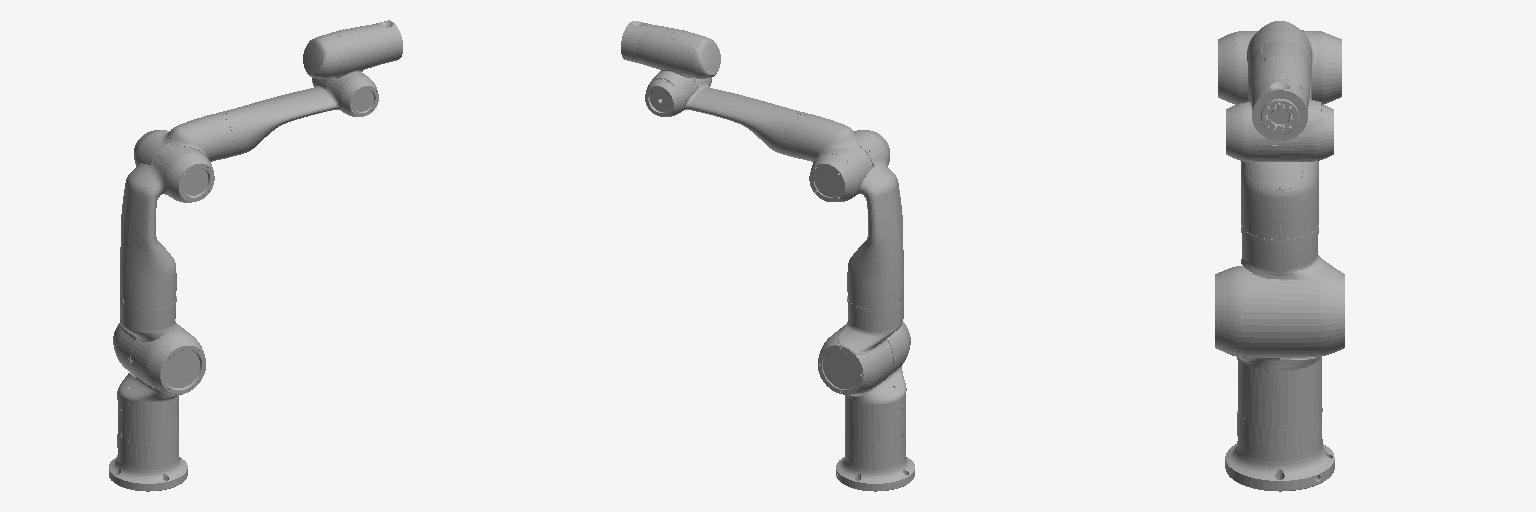
The robot description file, URDF, robot "DianaV1":
<?xml version="1.0" encoding="utf-8"?>
<!-- =================================================================================== -->
<!-- |    This document was autogenerated by xacro from DianaV1_joint_limited_robot.urdf.xacro | -->
<!-- |    EDITING THIS FILE BY HAND IS NOT RECOMMENDED                                 | -->
<!-- =================================================================================== -->
<robot name="DianaV1">
  <gazebo>
    <plugin filename="libgazebo_ros_control.so" name="ros_control">
      <!--robotNamespace>/</robotNamespace-->
      <!--robotSimType>gazebo_ros_control/DefaultRobotHWSim</robotSimType-->
    </plugin>
    <!--
    <plugin name="gazebo_ros_power_monitor_controller" filename="libgazebo_ros_power_monitor.so">
      <alwaysOn>true</alwaysOn>
      <updateRate>1.0</updateRate>
      <timeout>5</timeout>
      <powerStateTopic>power_state</powerStateTopic>
      <powerStateRate>10.0</powerStateRate>
      <fullChargeCapacity>87.78</fullChargeCapacity>     
      <dischargeRate>-474</dischargeRate>
      <chargeRate>525</chargeRate>
      <dischargeVoltage>15.52</dischargeVoltage>
      <chargeVoltage>16.41</chargeVoltage>
    </plugin>
-->
  </gazebo>
  <link name="base_link">
    <visual>
      <origin rpy="0 0 0" yz="0 0 0"/>
      <geometry>
        <mesh filename="package://dianaV1_description/meshes/base_link.STL"/>
      </geometry>
      <material name="LightGrey">
        <color rgba="0.7 0.7 0.7 1"/>
      </material>
    </visual>
    <collision>
      <origin rpy="0 0 0" xyz="0 0 0"/>
      <geometry>
        <mesh filename="package://dianaV1_description/meshes/base_link.STL"/>
      </geometry>
    </collision>
  </link>
  <joint name="joint1" type="revolute">
    <origin rpy="3.14159265359 0 0" xyz="0 0 0.3"/>
    <parent link="base_link"/>
    <child link="link1"/>
    <axis xyz="0 0 1"/>
    <limit effort="50.0" lower="-1.57079632679" upper="1.57079632679" velocity="3.14"/>
    <dynamics damping="0.0" friction="0.0"/>
  </joint>
  <link name="link1">
    <inertial>
      <origin rpy="0 0 0" xyz="0.0171 0.0 0.0762"/>
      <mass value="7.057"/>
      <inertia ixx="0.0" ixy="0.0" ixz="0.0" iyy="0.0" iyz="0.0" izz="0.023"/>
    </inertial>
    <visual>
      <origin rpy="0 0 0" xyz="0 0 0"/>
      <geometry>
        <mesh filename="package://dianaV1_description/meshes/link1.STL"/>
      </geometry>
      <material name="LightGrey">
        <color rgba="0.7 0.7 0.7 1"/>
      </material>
    </visual>
    <collision>
      <origin rpy="0 0 0" xyz="0 0 0"/>
      <geometry>
        <mesh filename="package://dianaV1_description/meshes/link1.STL"/>
      </geometry>
    </collision>
  </link>
  <joint name="joint2" type="revolute">
    <origin rpy="-1.57079632679 0 0" xyz="0.02982 0 0"/>
    <parent link="link1"/>
    <child link="link2"/>
    <axis xyz="0 0 1"/>
    <limit effort="50.0" lower="0.0" upper="1.2217304764" velocity="3.14"/>
    <dynamics damping="0.0" friction="0.0"/>
  </joint>
  <link name="link2">
    <inertial>
      <origin rpy="0 0 0" xyz="-0.0147 0.0491 -0.036"/>
      <mass value="3.367"/>
      <inertia ixx="0.0335" ixy="0.0" ixz="0.0" iyy="0.0161" iyz="0.0" izz="0.0286"/>
    </inertial>
    <visual>
      <origin rpy="0 0 0" xyz="0 0 0"/>
      <geometry>
        <mesh filename="package://dianaV1_description/meshes/link2.STL"/>
      </geometry>
      <material name="LightGrey">
        <color rgba="0.7 0.7 0.7 1"/>
      </material>
    </visual>
    <collision>
      <origin rpy="0 0 0" xyz="0 0 0"/>
      <geometry>
        <mesh filename="package://dianaV1_description/meshes/link2.STL"/>
      </geometry>
    </collision>
  </link>
  <joint name="joint3" type="revolute">
    <origin rpy="1.57079632679 0 0" xyz="-0.02982 0.45856 0"/>
    <parent link="link2"/>
    <child link="link3"/>
    <axis xyz="0 0 1"/>
    <limit effort="50.0" lower="0.0" upper="0.0" velocity="3.14"/>
    <dynamics damping="0.0" friction="0.0"/>
  </joint>
  <link name="link3">
    <inertial>
      <origin rpy="0 0 0" xyz="0.0283 0.0035 0.134"/>
      <mass value="4.949"/>
      <inertia ixx="0.1981" ixy="0.0" ixz="0.0" iyy="0.2068" iyz="0.0" izz="0.0207"/>
    </inertial>
    <visual>
      <origin rpy="0 0 0" xyz="0 0 0"/>
      <geometry>
        <mesh filename="package://dianaV1_description/meshes/link3.STL"/>
      </geometry>
      <material name="LightGrey">
        <color rgba="0.7 0.7 0.7 1"/>
      </material>
    </visual>
    <collision>
      <origin rpy="0 0 0" xyz="0 0 0"/>
      <geometry>
        <mesh filename="package://dianaV1_description/meshes/link3.STL"/>
      </geometry>
    </collision>
  </link>
  <joint name="joint4" type="revolute">
    <origin rpy="-1.57079632679 -1.57079632679 0" xyz="0.06768 0 0"/>
    <parent link="link3"/>
    <child link="link4"/>
    <axis xyz="0 0 1"/>
    <limit effort="50.0" lower="0.0" upper="0.872664625997" velocity="3.14"/>
    <dynamics damping="0.0" friction="0.0"/>
  </joint>
  <link name="link4">
    <inertial>
      <origin rpy="0 0 0" xyz="-0.0284 0.0426 -0.0222"/>
      <mass value="2.347"/>
      <inertia ixx="0.0154" ixy="0.0" ixz="0.0" iyy="0.0" iyz="0.0" izz="0.0167"/>
    </inertial>
    <visual>
      <origin rpy="0 0 0" xyz="0 0 0"/>
      <geometry>
        <mesh filename="package://dianaV1_description/meshes/link4.STL"/>
      </geometry>
      <material name="LightGrey">
        <color rgba="0.7 0.7 0.7 1"/>
      </material>
    </visual>
    <collision>
      <origin rpy="0 0 0" xyz="0 0 0"/>
      <geometry>
        <mesh filename="package://dianaV1_description/meshes/link4.STL"/>
      </geometry>
    </collision>
  </link>
  <joint name="joint5" type="revolute">
    <origin rpy="1.57079632679 0 0" xyz="-0.04744 0.44903 0"/>
    <parent link="link4"/>
    <child link="link5"/>
    <axis xyz="0 0 1"/>
    <limit effort="50.0" lower="-1.57079632679" upper="1.57079632679" velocity="3.14"/>
    <dynamics damping="0.0" friction="0.0"/>
  </joint>
  <link name="link5">
    <inertial>
      <origin rpy="0 0 0" xyz="-0.0253 0.0007 0.1455"/>
      <mass value="3.2554"/>
      <inertia ixx="0.1459" ixy="0.0" ixz="0.0" iyy="0.1481" iyz="0.0" izz="0.0"/>
    </inertial>
    <visual>
      <origin rpy="0 0 0" xyz="0 0 0"/>
      <geometry>
        <mesh filename="package://dianaV1_description/meshes/link5.STL"/>
      </geometry>
      <material name="LightGrey">
        <color rgba="0.7 0.7 0.7 1"/>
      </material>
    </visual>
    <collision>
      <origin rpy="0 0 0" xyz="0 0 0"/>
      <geometry>
        <mesh filename="package://dianaV1_description/meshes/link5.STL"/>
      </geometry>
    </collision>
  </link>
  <joint name="joint6" type="revolute">
    <origin rpy="-1.57079632679 0 0" xyz="-0.04639 0 0"/>
    <parent link="link5"/>
    <child link="link6"/>
    <axis xyz="0 0 1"/>
    <limit effort="50.0" lower="0.0" upper="0.349065850399" velocity="3.14"/>
    <dynamics damping="0.0" friction="0.0"/>
  </joint>
  <link name="link6">
    <inertial>
      <origin rpy="0 0 0" xyz="-0.0613 0.0202 -0.0143"/>
      <mass value="2.627"/>
      <inertia ixx="0.0" ixy="0.0" ixz="0.0" iyy="0.0189" iyz="0.0" izz="0.0207"/>
    </inertial>
    <visual>
      <origin rpy="0 0 0" xyz="0 0 0"/>
      <geometry>
        <mesh filename="package://dianaV1_description/meshes/link6.STL"/>
      </geometry>
      <material name="LightGrey">
        <color rgba="0.7 0.7 0.7 1"/>
      </material>
    </visual>
    <collision>
      <origin rpy="0 0 0" xyz="0 0 0"/>
      <geometry>
        <mesh filename="package://dianaV1_description/meshes/link6.STL"/>
      </geometry>
    </collision>
  </link>
  <joint name="joint7" type="revolute">
    <origin rpy="1.57079632679 0 0" xyz="-0.08791 0.1314 0"/>
    <parent link="link6"/>
    <child link="link7"/>
    <axis xyz="0 0 1"/>
    <limit effort="50.0" lower="0.0" upper="0.0" velocity="3.14"/>
    <dynamics damping="0.0" friction="0.0"/>
  </joint>
  <link name="link7">
    <inertial>
      <origin rpy="0 0 0" xyz="0.0 0.0 0.0452"/>
      <mass value="0.77"/>
      <inertia ixx="0.0" ixy="0.0" ixz="0.0" iyy="0.0" iyz="0.0" izz="0.0"/>
    </inertial>
    <visual>
      <origin rpy="0 0 0" xyz="0 0 0"/>
      <geometry>
        <mesh filename="package://dianaV1_description/meshes/link7.STL"/>
      </geometry>
      <material name="LightGrey">
        <color rgba="0.7 0.7 0.7 1"/>
      </material>
    </visual>
    <collision>
      <origin rpy="0 0 0" xyz="0 0 0"/>
      <geometry>
        <mesh filename="package://dianaV1_description/meshes/link7.STL"/>
      </geometry>
    </collision>
  </link>
  <transmission name="joint1_trans">
    <type>transmission_interface/SimpleTransmission</type>
    <joint name="joint1">
      <hardwareInterface>hardware_interface/PositionJointInterface</hardwareInterface>
    </joint>
    <actuator name="joint1_motor">
      <mechanicalReduction>1</mechanicalReduction>
    </actuator>
  </transmission>
  <transmission name="joint2_trans">
    <type>transmission_interface/SimpleTransmission</type>
    <joint name="joint2">
      <hardwareInterface>hardware_interface/PositionJointInterface</hardwareInterface>
    </joint>
    <actuator name="joint2_motor">
      <mechanicalReduction>1</mechanicalReduction>
    </actuator>
  </transmission>
  <transmission name="joint3_trans">
    <type>transmission_interface/SimpleTransmission</type>
    <joint name="joint3">
      <hardwareInterface>hardware_interface/PositionJointInterface</hardwareInterface>
    </joint>
    <actuator name="joint3_motor">
      <mechanicalReduction>1</mechanicalReduction>
    </actuator>
  </transmission>
  <transmission name="joint4_trans">
    <type>transmission_interface/SimpleTransmission</type>
    <joint name="joint4">
      <hardwareInterface>hardware_interface/PositionJointInterface</hardwareInterface>
    </joint>
    <actuator name="joint4_motor">
      <mechanicalReduction>1</mechanicalReduction>
    </actuator>
  </transmission>
  <transmission name="joint5_trans">
    <type>transmission_interface/SimpleTransmission</type>
    <joint name="joint5">
      <hardwareInterface>hardware_interface/PositionJointInterface</hardwareInterface>
    </joint>
    <actuator name="joint5_motor">
      <mechanicalReduction>1</mechanicalReduction>
    </actuator>
  </transmission>
  <transmission name="joint6_trans">
    <type>transmission_interface/SimpleTransmission</type>
    <joint name="joint6">
      <hardwareInterface>hardware_interface/PositionJointInterface</hardwareInterface>
    </joint>
    <actuator name="joint6_motor">
      <mechanicalReduction>1</mechanicalReduction>
    </actuator>
  </transmission>
  <transmission name="joint7_trans">
    <type>transmission_interface/SimpleTransmission</type>
    <joint name="joint7">
      <hardwareInterface>hardware_interface/PositionJointInterface</hardwareInterface>
    </joint>
    <actuator name="joint7_motor">
      <mechanicalReduction>1</mechanicalReduction>
    </actuator>
  </transmission>
  <gazebo reference="link1">
    <selfCollide>true</selfCollide>
  </gazebo>
  <gazebo reference="link2">
    <selfCollide>true</selfCollide>
  </gazebo>
  <gazebo reference="link3">
    <selfCollide>true</selfCollide>
  </gazebo>
  <gazebo reference="link4">
    <selfCollide>true</selfCollide>
  </gazebo>
  <gazebo reference="link5">
    <selfCollide>true</selfCollide>
  </gazebo>
  <gazebo reference="link6">
    <selfCollide>true</selfCollide>
  </gazebo>
  <gazebo reference="link7">
    <selfCollide>true</selfCollide>
  </gazebo>
  <link name="world"/>
  <joint name="world_joint" type="fixed">
    <parent link="world"/>
    <child link="base_link"/>
    <origin rpy="0.0 0.0 0.0" xyz="0.0 0.0 0.0"/>
  </joint>
</robot>

--- Render facts (derived) ---
3 views of the same robot in one strip: view 1: azimuth 30°, elevation 25°; view 2: azimuth 150°, elevation 25°; view 3: azimuth 270°, elevation 25° (orthographic).
Robot: DianaV1 — 9 links, 8 joints (7 revolute, 1 fixed); root link world; default pose: all joints at 0.
Visible links, largest first — view 1: link3, link1, link5, link6, base_link, link4, link2, link7; view 2: link3, link2, link6, link4, link1, link5, base_link, link7; view 3: link1, link3, link2, base_link, link6, link4, link7, link5.
Link boxes in pixels (x1,y1,x2,y2): link3: [120, 143, 214, 312]; link1: [117, 324, 205, 446]; link5: [216, 72, 378, 158]; link6: [303, 24, 387, 88]; base_link: [109, 434, 187, 491]; link4: [134, 114, 229, 165]; link2: [113, 303, 176, 376]; link7: [373, 20, 402, 63]; link3: [847, 130, 903, 312]; link2: [818, 303, 903, 394]; link6: [636, 24, 720, 116]; link4: [794, 114, 872, 201]; link1: [845, 322, 910, 446]; link5: [685, 77, 807, 158]; base_link: [836, 436, 914, 491]; link7: [621, 21, 650, 63]; link1: [1215, 266, 1322, 428]; link3: [1218, 31, 1318, 244]; link2: [1241, 231, 1344, 357]; base_link: [1225, 411, 1334, 491]; link6: [1250, 41, 1333, 161]; link4: [1247, 21, 1341, 104]; link7: [1252, 79, 1307, 140]; link5: [1226, 61, 1311, 161].
Size in the robot's own frame: 0.7381 by 0.2152 by 0.9918 metres.
8 mesh visuals loaded from 8 distinct referenced files (8 binary STL).
